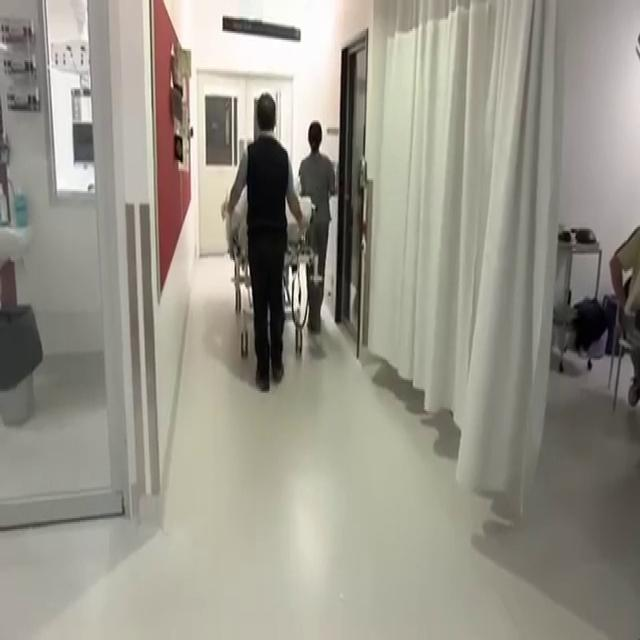others: (224, 91, 306, 391)
